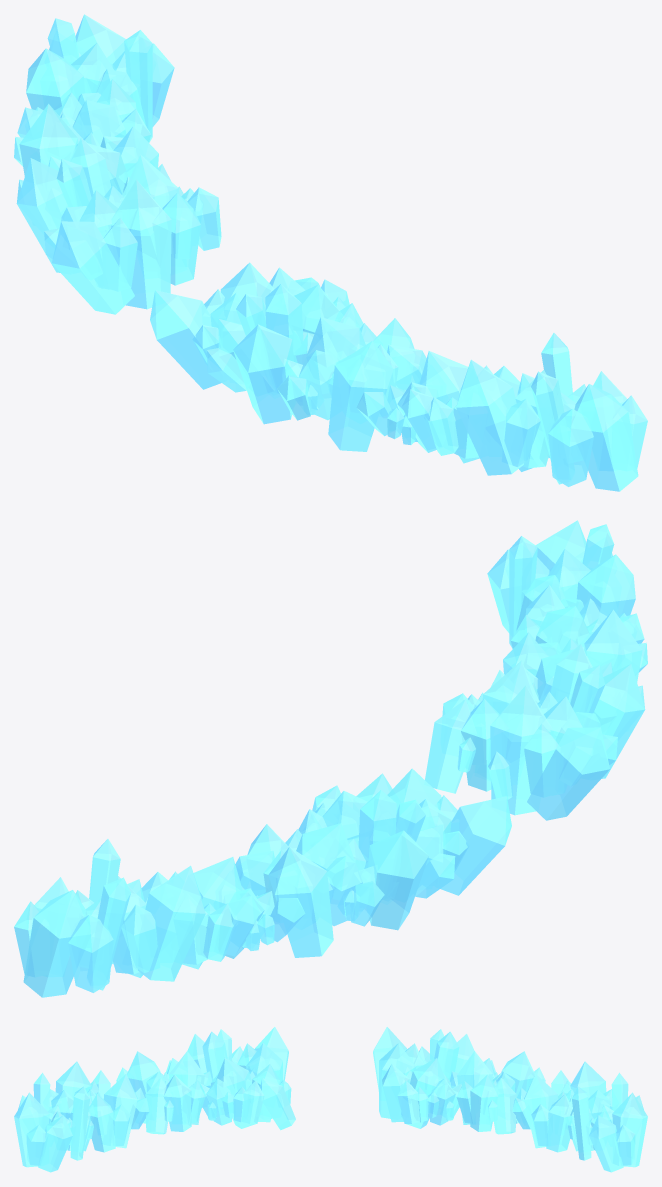
Rendered from Kristalle_5.fbx.
3 renders of one model, top to bottom at view 1: azimuth 30°, elevation 25°; view 2: azimuth 150°, elevation 25°; view 3: azimuth 270°, elevation 25°, orthographic. The views are drawn at different scales.
Visible parts, largest first — view 1: Steinkliff.008; view 2: Steinkliff.008; view 3: Steinkliff.008.
Boxes of the visible parts, x1=… form: Steinkliff.008: x1=14, y1=14, x2=647, y2=491; Steinkliff.008: x1=14, y1=520, x2=647, y2=997; Steinkliff.008: x1=14, y1=1027, x2=647, y2=1172.
Size of the model in its own units: 246 by 114 by 768.
